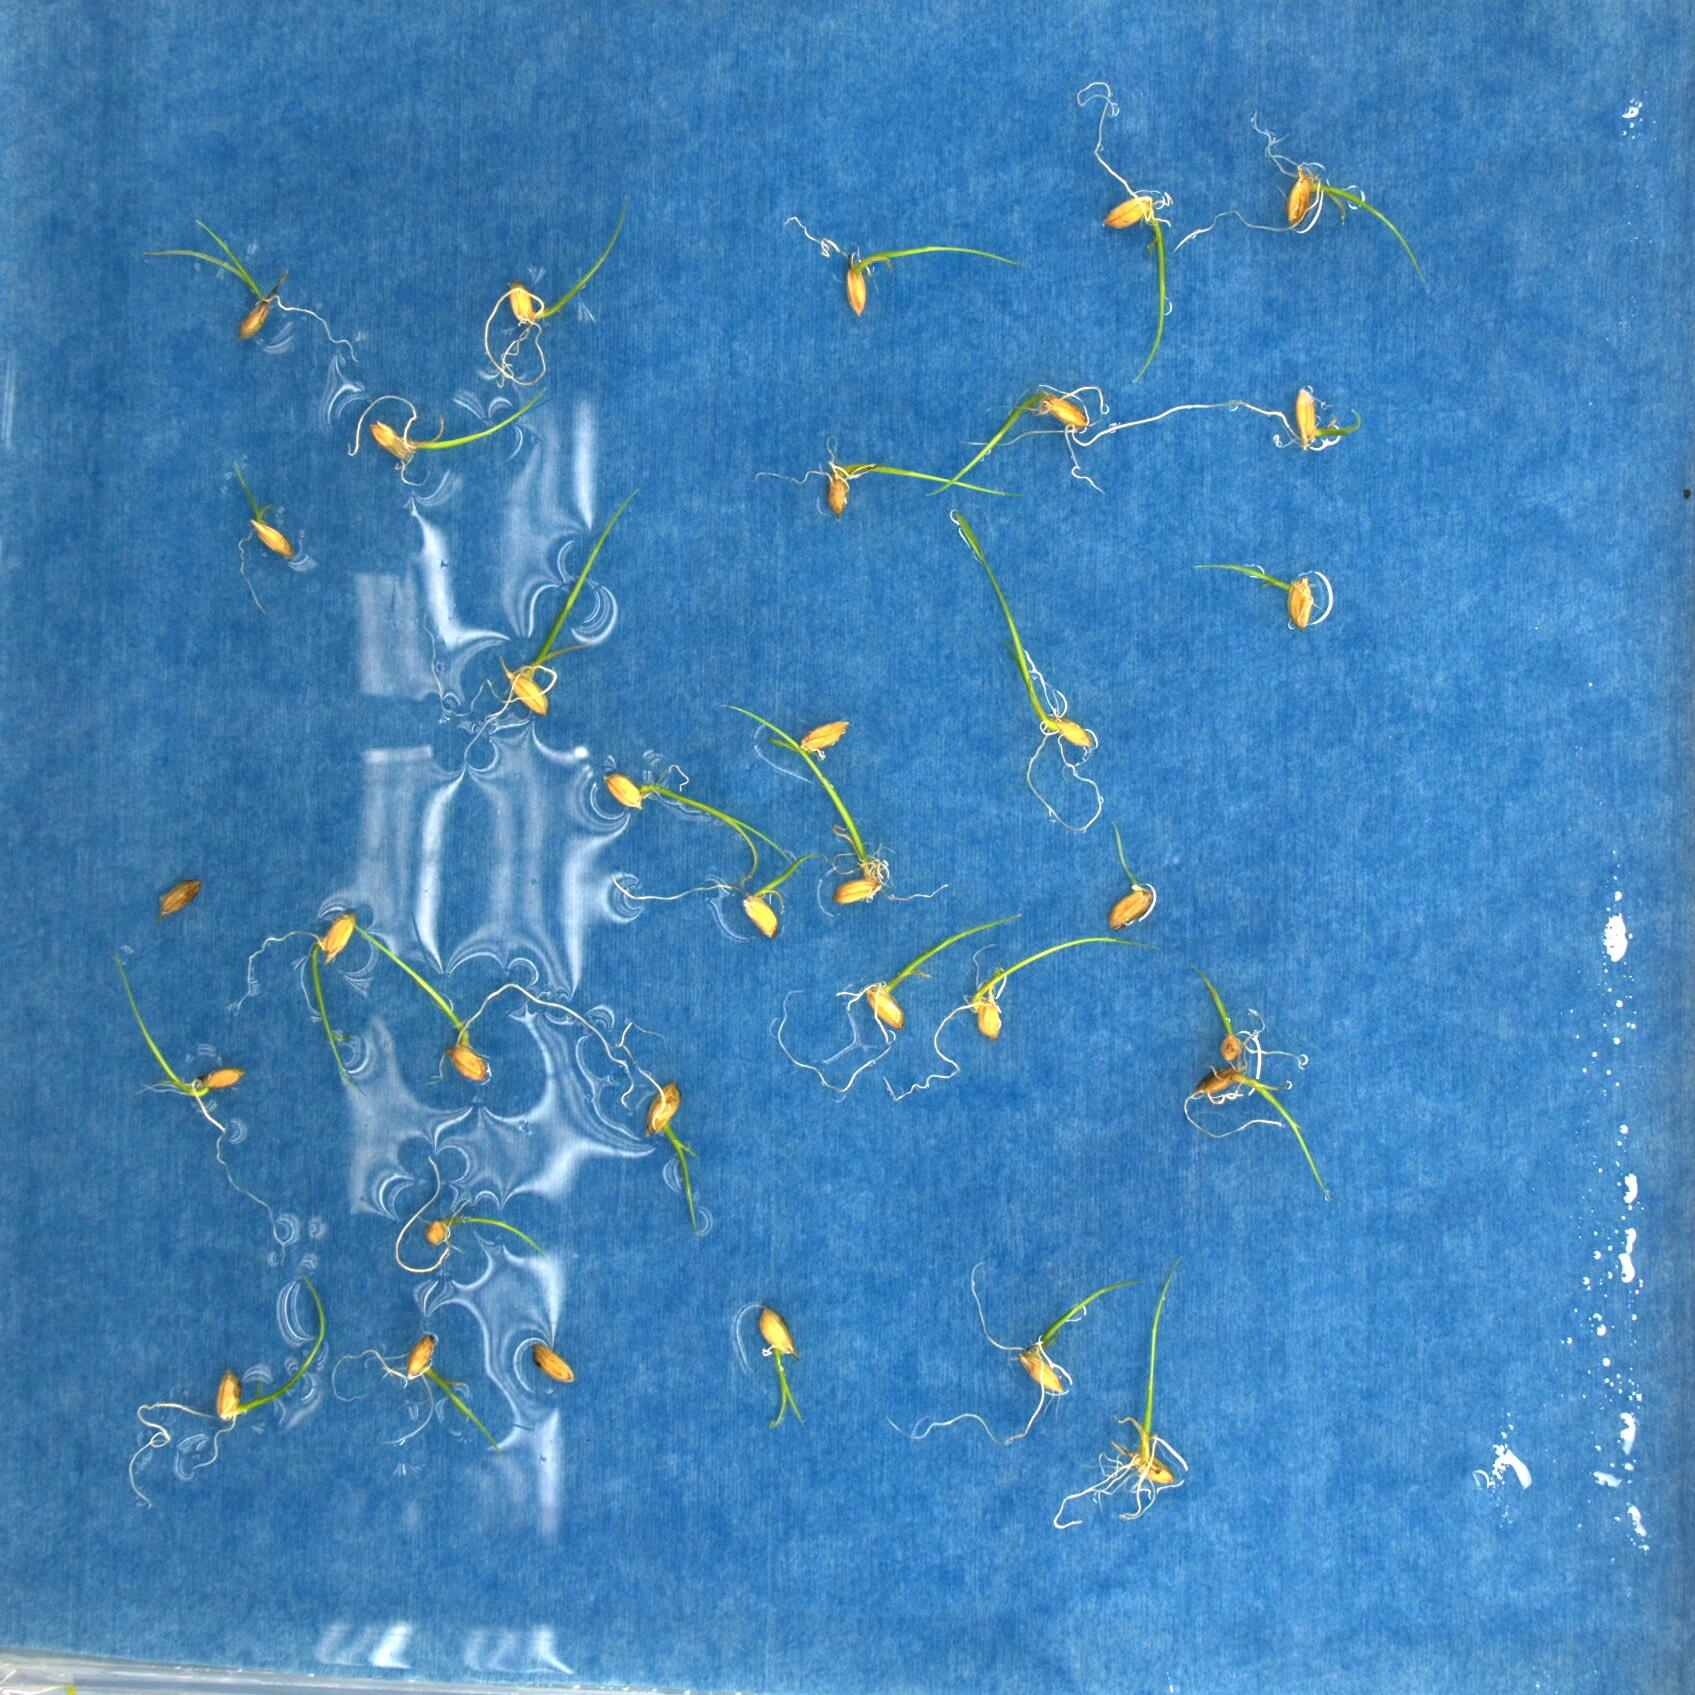not sprout: (1097, 830, 1163, 948), (151, 875, 213, 924), (526, 1340, 577, 1394)
sprout: (973, 355, 1246, 601), (425, 494, 655, 782), (941, 503, 1121, 838), (115, 950, 293, 1256), (126, 1270, 328, 1521), (757, 910, 1017, 1096), (889, 1260, 1142, 1450), (1059, 70, 1200, 394), (730, 702, 947, 910), (341, 903, 567, 1104), (899, 916, 1135, 1107), (140, 217, 365, 394), (1046, 1267, 1191, 1537), (1226, 120, 1437, 303), (1166, 1024, 1336, 1201), (782, 205, 1017, 331), (231, 905, 379, 1101), (483, 200, 626, 400), (587, 761, 798, 896), (365, 1239, 486, 1464), (383, 1153, 556, 1305), (341, 379, 560, 489), (612, 1018, 717, 1240), (753, 441, 1018, 523), (618, 851, 809, 948), (196, 466, 323, 588), (1222, 373, 1380, 467), (1180, 543, 1330, 643), (1186, 972, 1309, 1073), (740, 1301, 820, 1433), (771, 722, 851, 770)
